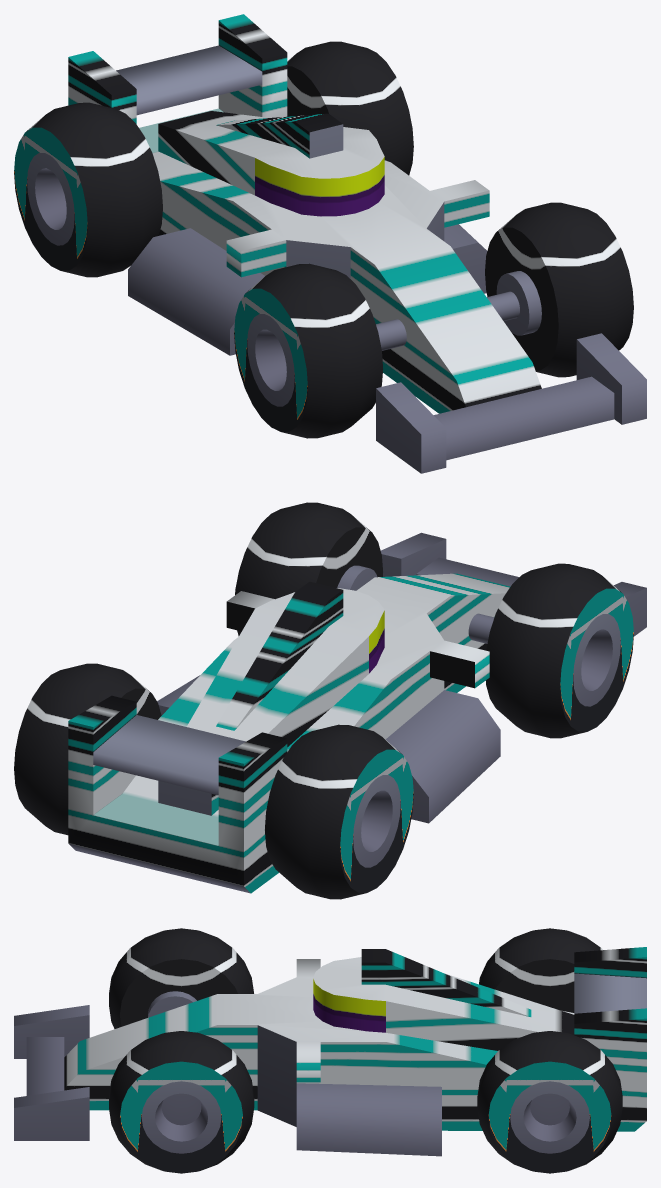
File: car_mercedes.obj
3 renders of one model, top to bottom at view 1: azimuth 30°, elevation 25°; view 2: azimuth 150°, elevation 25°; view 3: azimuth 270°, elevation 25°, orthographic. The views are drawn at different scales.
Visible parts, largest first — view 1: body, wheel-front-right, wheel-back-right, wheel-front-left, wheel-back-left; view 2: body, wheel-back-right, wheel-front-right, wheel-back-left, wheel-front-left; view 3: body, wheel-back-left, wheel-front-left, wheel-front-right, wheel-back-right.
Part boxes in pixels (left/top/right/bottom): body: left=68, top=14, right=646, bottom=473; wheel-front-right: left=234, top=263, right=382, bottom=438; wheel-back-right: left=14, top=102, right=162, bottom=277; wheel-front-left: left=485, top=202, right=633, bottom=377; wheel-back-left: left=287, top=41, right=413, bottom=175; body: left=68, top=532, right=646, bottom=893; wheel-back-right: left=265, top=724, right=413, bottom=899; wheel-front-right: left=485, top=563, right=633, bottom=738; wheel-back-left: left=14, top=663, right=161, bottom=835; wheel-front-left: left=235, top=502, right=382, bottom=636; body: left=14, top=947, right=646, bottom=1156; wheel-back-left: left=477, top=1031, right=622, bottom=1173; wheel-front-left: left=109, top=1031, right=254, bottom=1173; wheel-front-right: left=109, top=928, right=253, bottom=1028; wheel-back-right: left=479, top=928, right=602, bottom=1012.
Size of the model in its own units: 1.3 by 0.7325 by 2.61.
1 material, 1 textured.
